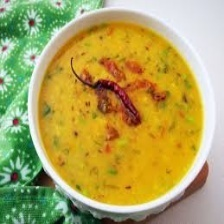dal: (35, 20, 203, 206)
